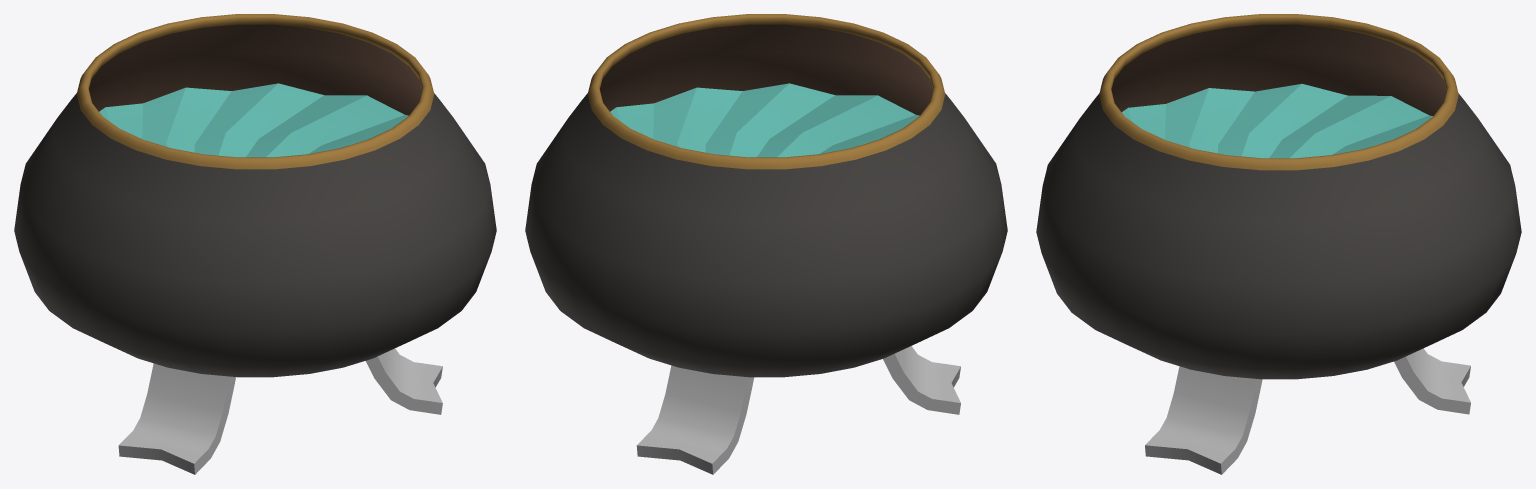
The model's file is Cauldron.glb.
The picture shows the model from 3 angles, left to right: view 1: azimuth 30°, elevation 25°; view 2: azimuth 150°, elevation 25°; view 3: azimuth 270°, elevation 25°; orthographic projection.
Parts seen in each view (by area): view 1: Cauldron; view 2: Cauldron; view 3: Cauldron.
Part boxes in pixels (x1,y1,x2,y2): Cauldron: (14,14,496,474); Cauldron: (525,14,1007,474); Cauldron: (1036,14,1521,474).
Size of the model in its own units: 1.83 by 1.3 by 1.84.
